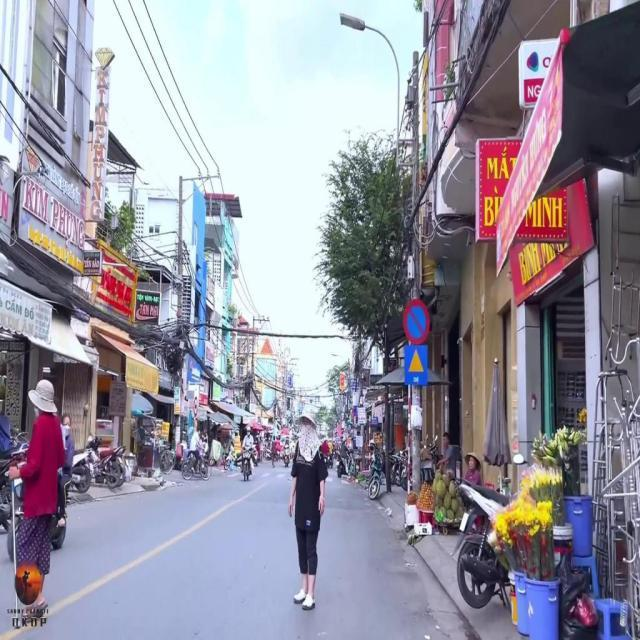131a-cam-do-xe: (401, 298, 432, 346)
442-cho: (404, 344, 428, 386)
